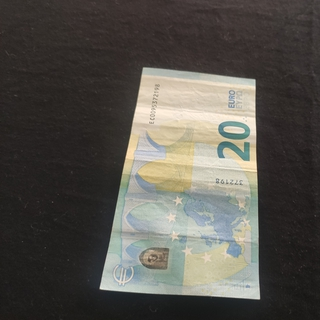20EUROBack: (99, 67, 261, 300)
